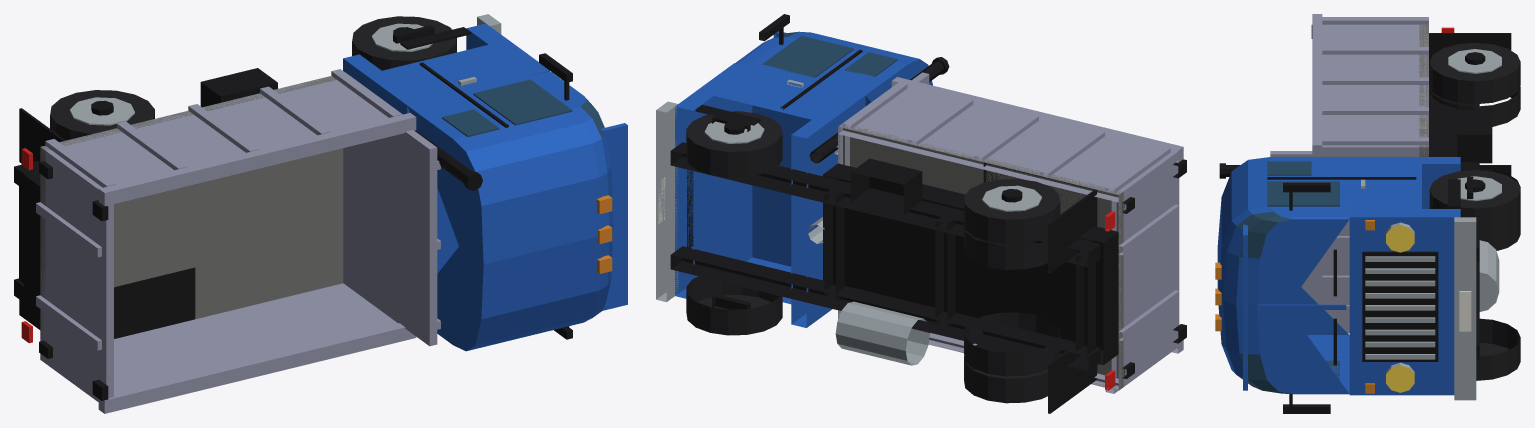
The model's file is empty.glb.
3 views of the same model, side by side, from view 1: azimuth 30°, elevation 25°; view 2: azimuth 150°, elevation 25°; view 3: azimuth 270°, elevation 25° (orthographic). The views are drawn at different scales.
Parts seen in each view (by area): view 1: empty_bed, empty_cab_upper, empty_headboard, empty_cab_arch, empty_rear_guard-1, empty_rear_out1, empty_front1, empty_visor, empty_side_window1, empty_subframe, empty_cab_back, empty_battery_box (+5 smaller); view 2: empty_bed, empty_subframe, empty_cab_arch, empty_chassis-1, empty_cab_front, empty_chassis1, empty_cab_back, empty_rear_out1, empty_front1, empty_cab_upper, empty_fuel_tank, empty_front-1 (+15 smaller); view 3: empty_cab_upper, empty_bed, empty_cab_front, empty_grille, empty_rear_out1, empty_bumper, empty_front1, empty_cab_arch, empty_front-1, empty_battery_box, empty_subframe, empty_cab_back (+27 smaller).
Boxes of the visible parts, x1,y1,x2,y2 form: empty_bed: (36,69,416,413); empty_cab_upper: (407,72,613,351); empty_headboard: (404,130,437,346); empty_cab_arch: (382,44,530,273); empty_rear_guard-1: (114,267,195,338); empty_rear_out1: (50,90,154,140); empty_front1: (352,16,456,70); empty_visor: (601,123,627,310); empty_side_window1: (473,79,572,125); empty_subframe: (23,171,40,319); empty_cab_back: (343,54,423,114); empty_battery_box: (200,68,277,107); empty_bed: (838,77,1183,393); empty_subframe: (823,163,1118,365); empty_cab_arch: (713,67,849,304); empty_chassis-1: (670,246,1100,371); empty_cab_front: (675,63,752,298); empty_chassis1: (670,142,1100,267); empty_cab_back: (791,91,865,327); empty_rear_out1: (964,179,1060,244); empty_front1: (686,111,782,177); empty_cab_upper: (735,31,932,105); empty_fuel_tank: (835,301,929,365); empty_front-1: (686,276,782,335); empty_cab_upper: (1217,157,1349,394); empty_bed: (1312,14,1428,333); empty_cab_front: (1349,209,1460,395); empty_grille: (1362,251,1438,361); empty_rear_out1: (1429,42,1520,104); empty_bumper: (1454,217,1476,400); empty_front1: (1429,170,1520,232); empty_cab_arch: (1349,164,1421,208); empty_front-1: (1476,318,1520,380); empty_battery_box: (1457,110,1492,163); empty_subframe: (1429,65,1457,156); empty_cab_back: (1349,157,1460,208).
Size of the model in its own units: 7.65 by 3.98 by 4.82.
